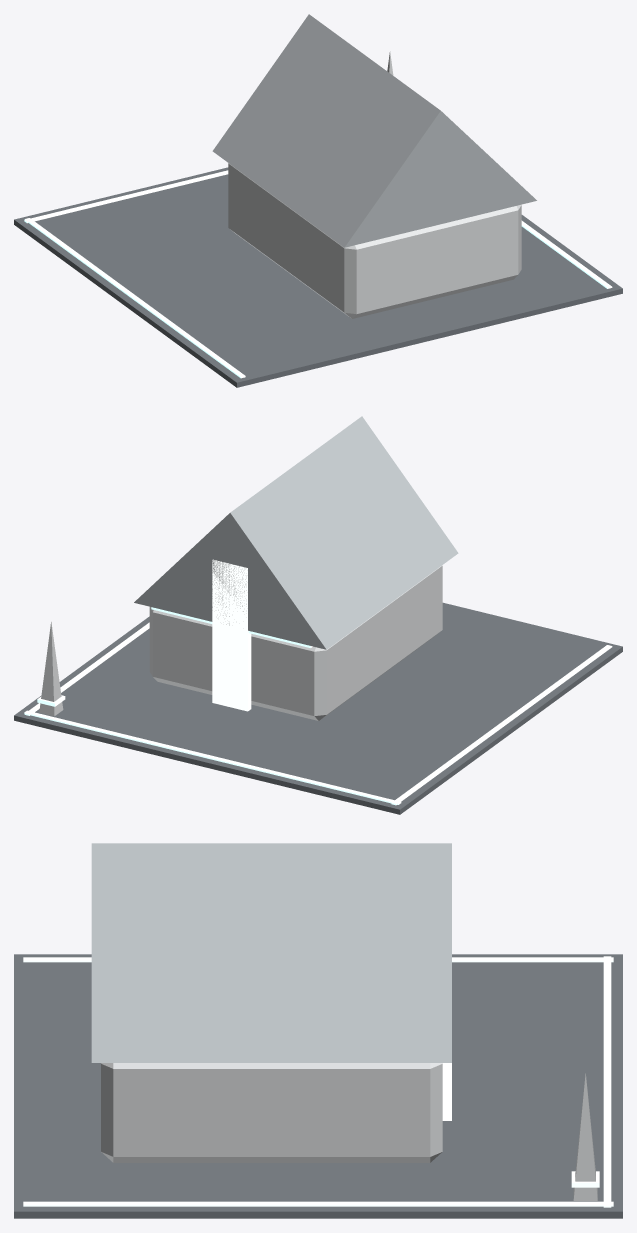
The model's file is zone_low_5_t1.glb.
3 views of the same model, one above another, from view 1: azimuth 30°, elevation 25°; view 2: azimuth 150°, elevation 25°; view 3: azimuth 270°, elevation 25° (orthographic). The views are drawn at different scales.
Parts seen in each view (by area): view 1: zone_low_5_t1, detail; view 2: zone_low_5_t1, detail; view 3: zone_low_5_t1, detail.
Part boxes in pixels (box(x1,y1,x2,y2)): zone_low_5_t1: box(14, 14, 622, 387); detail: box(24, 51, 612, 378); zone_low_5_t1: box(14, 416, 622, 814); detail: box(24, 607, 612, 805); zone_low_5_t1: box(14, 843, 622, 1218); detail: box(23, 956, 613, 1207).
Size of the model in its own units: 19.6 by 9.69 by 19.6.
